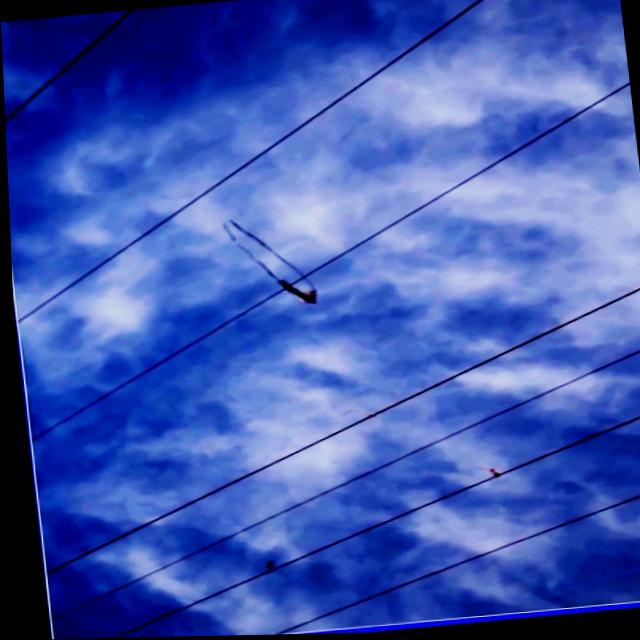obstruction: (221, 221, 313, 305)
wires: (40, 288, 640, 575), (49, 351, 640, 620), (14, 0, 487, 324), (101, 417, 640, 639), (290, 85, 629, 285), (266, 495, 640, 636), (27, 295, 273, 441), (4, 10, 135, 123)
